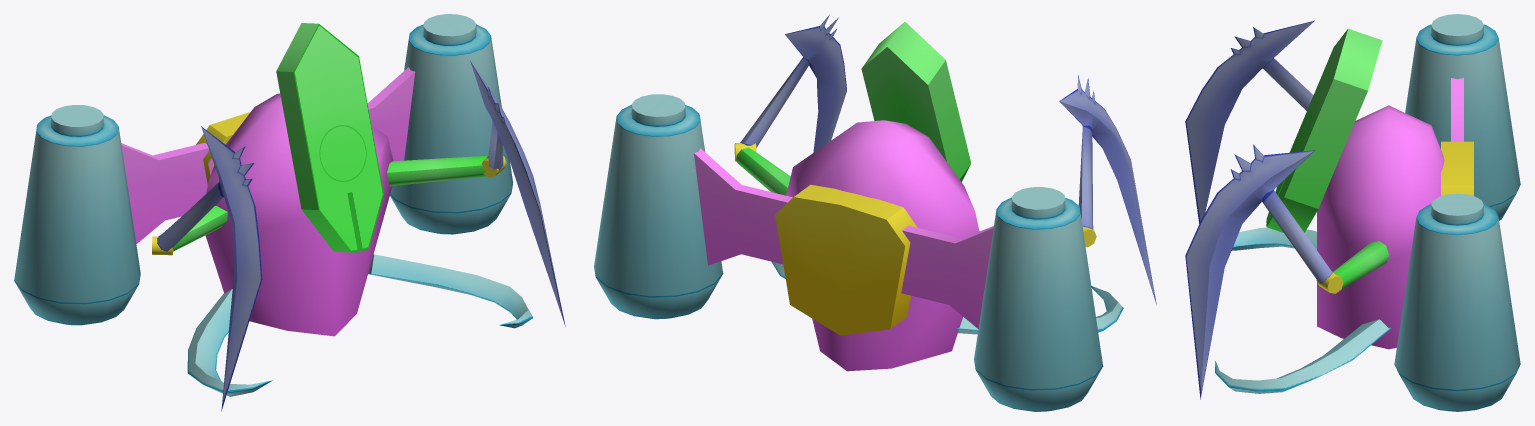
The model's file is flying_enemy.fbx.
The picture shows the model from 3 angles, left to right: view 1: azimuth 30°, elevation 25°; view 2: azimuth 150°, elevation 25°; view 3: azimuth 270°, elevation 25°; orthographic projection. The views are drawn at different scales.
Visible parts, largest first — view 1: Box001; view 2: Box001; view 3: Box001.
Boxes of the visible parts, box(x1,y1,x2,y2) form: Box001: box(14, 14, 565, 411); Box001: box(594, 14, 1156, 411); Box001: box(1185, 14, 1520, 411).
Bounding box in the file's own units: 66.08 × 40.19 × 39.37.
